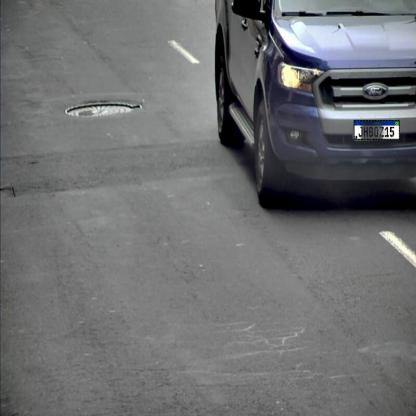PlacaM: (353, 120, 400, 140)
